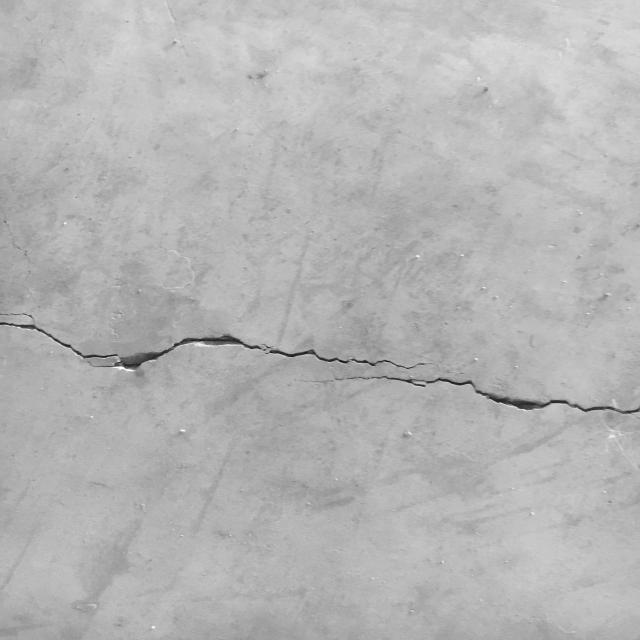SurfaceCrack: (1, 256, 640, 461)
